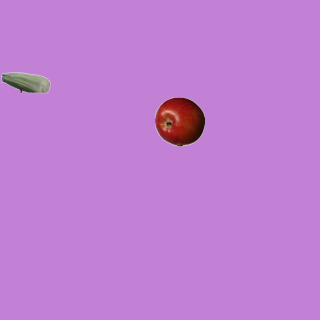Apple Braeburn: (154, 96, 204, 146)
Corn Husk: (0, 57, 50, 107)
